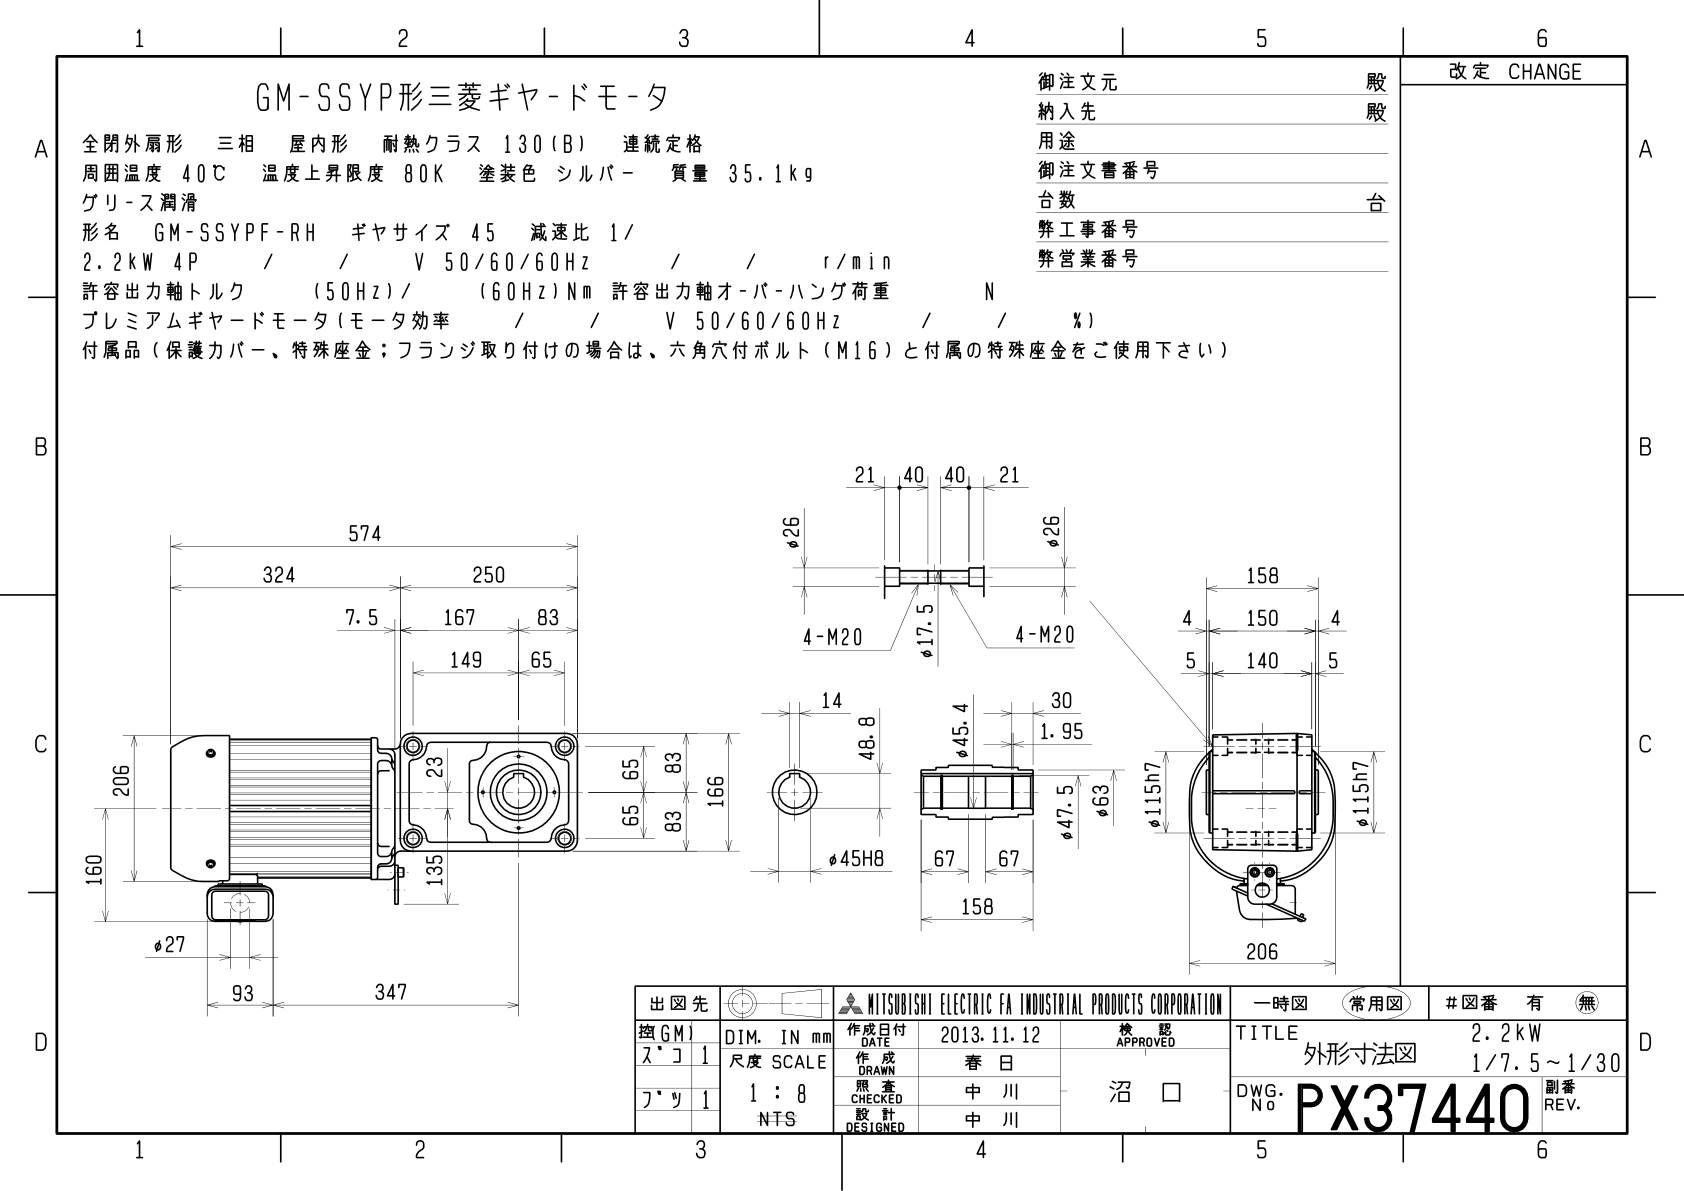GM_SSYP_屋内_三相: (6, 10, 1684, 1191)
